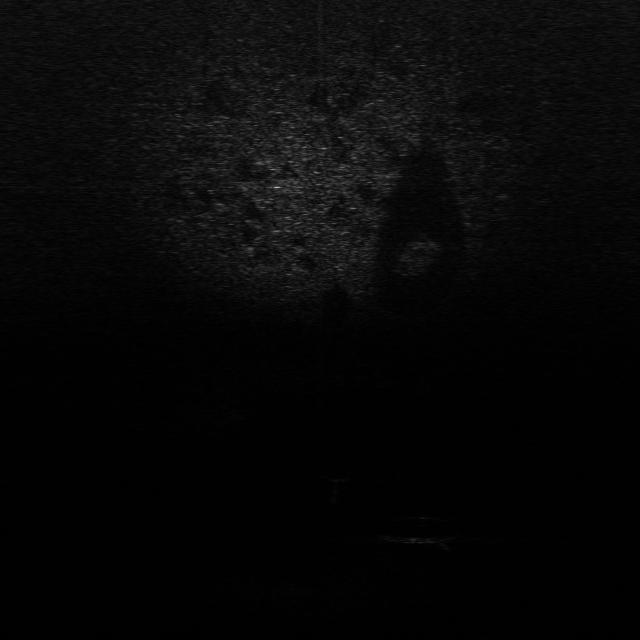ball: (323, 463, 352, 483)
tyre: (378, 511, 463, 546)
